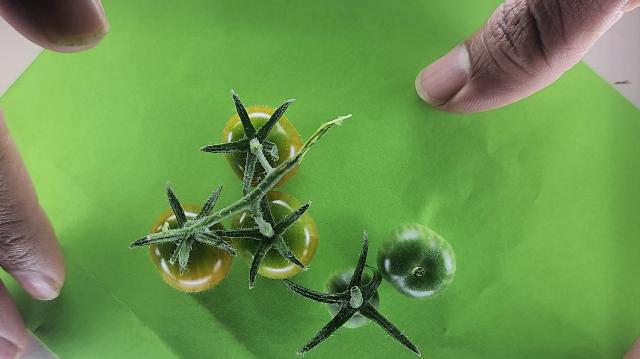Fruit Maturation: (376, 223, 457, 300), (323, 267, 380, 329)
Fully Grown: (230, 191, 319, 281), (150, 204, 237, 294), (222, 105, 305, 189)
